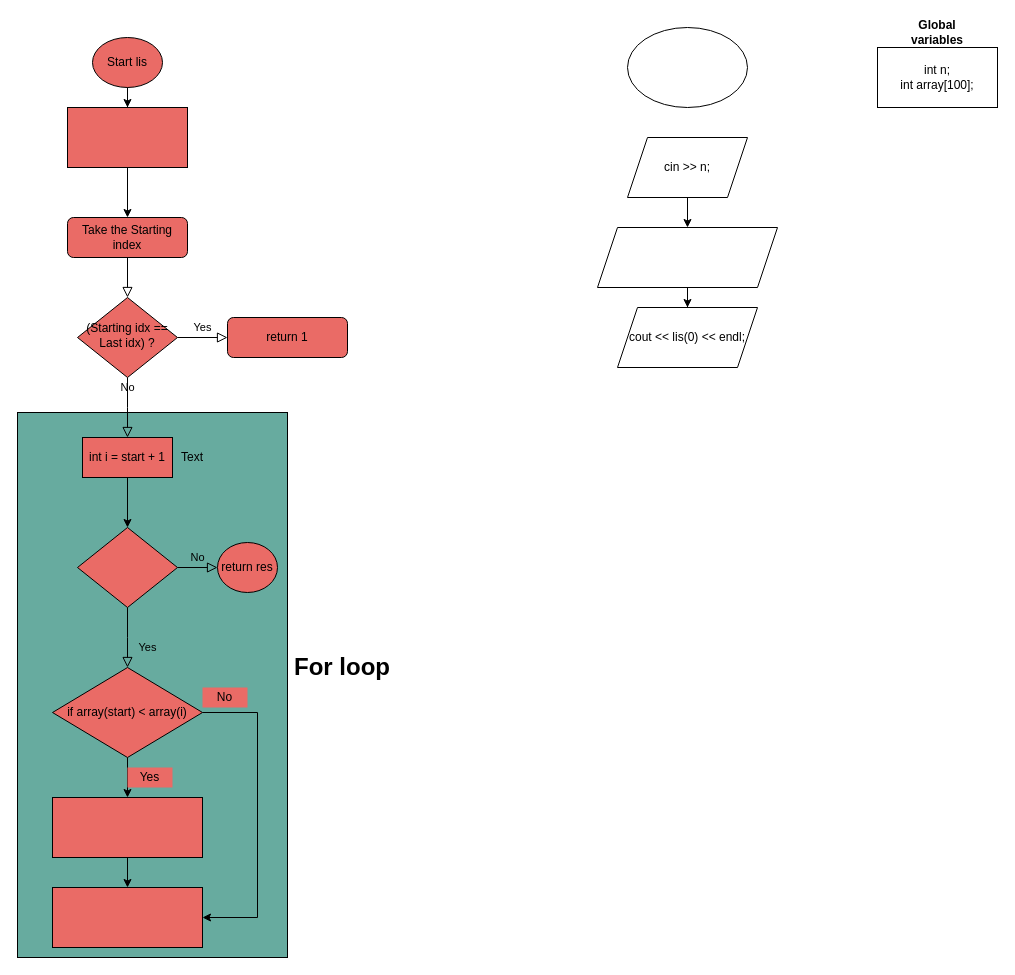
Image size: 1015x975. Some labels were removed from this diagram. The centre of each missing label's shape, as x and y in pixels:
"++i" goes at [127,917].
"for (int i = 0; i < n; ++I) cin >> array[i];" goes at [687,257].
"i < n" goes at [127,567].
"int res = 0" goes at [127,137].
"res = max(res, lis(i+1) + 1)" goes at [127,827].
"Start Main" goes at [687,67].
